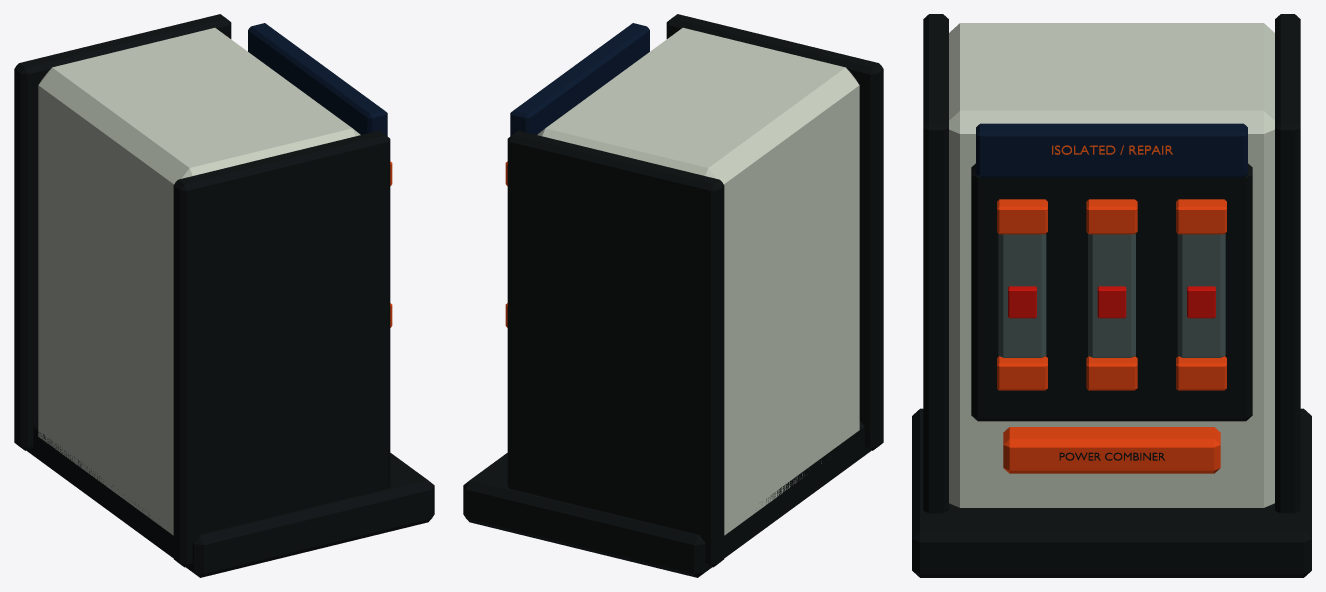
File: SM_MP_Flow_Combiner.fbx
The picture shows the model from 3 angles, left to right: view 1: azimuth 30°, elevation 25°; view 2: azimuth 150°, elevation 25°; view 3: azimuth 270°, elevation 25°; orthographic projection. The views are drawn at different scales.
Parts seen in each view (by area): view 1: SM_MP_Flow_Combiner; view 2: SM_MP_Flow_Combiner; view 3: SM_MP_Flow_Combiner.
Part boxes in pixels (x1,y1,x2,y2): SM_MP_Flow_Combiner: (14,14,434,577); SM_MP_Flow_Combiner: (463,14,883,577); SM_MP_Flow_Combiner: (912,14,1311,577).
Bounding box in the file's own units: 100 × 125 × 151.
Materials: 1 (1 with a texture image).
